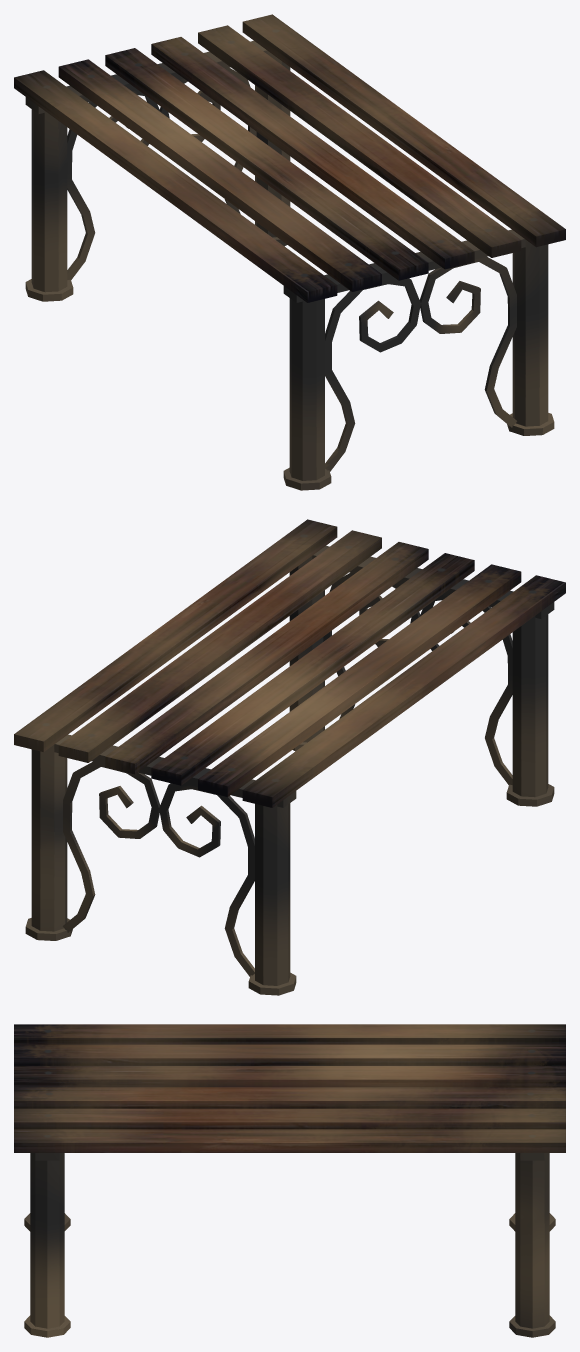
Rendered from OBJ_Silla.fbx.
3 views of the same model, one above another, from view 1: azimuth 30°, elevation 25°; view 2: azimuth 150°, elevation 25°; view 3: azimuth 270°, elevation 25° (orthographic). The views are drawn at different scales.
Parts seen in each view (by area): view 1: Silla integrada; view 2: Silla integrada; view 3: Silla integrada.
Boxes of the visible parts, x1,y1,x2,y2 form: Silla integrada: (14, 14, 565, 490); Silla integrada: (14, 519, 565, 995); Silla integrada: (14, 1024, 565, 1337).
Size of the model in its own units: 71.38 by 52.75 by 137.
